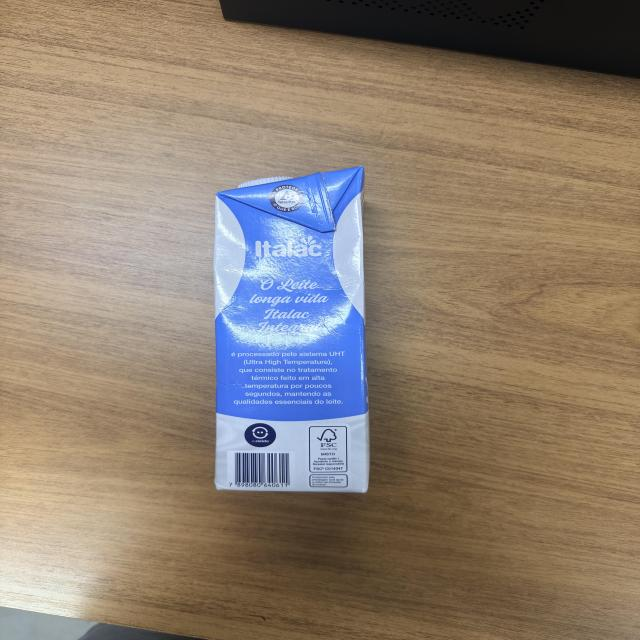Caixa de Leite: (213, 170, 374, 492)
